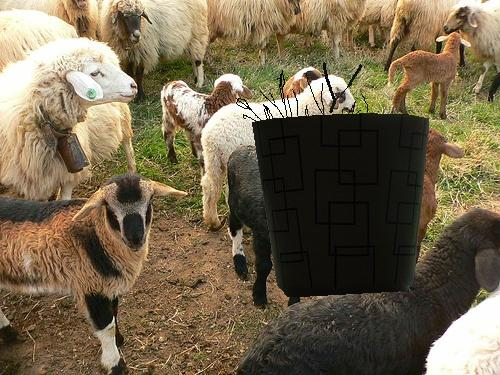tampered: (237, 63, 429, 297)
